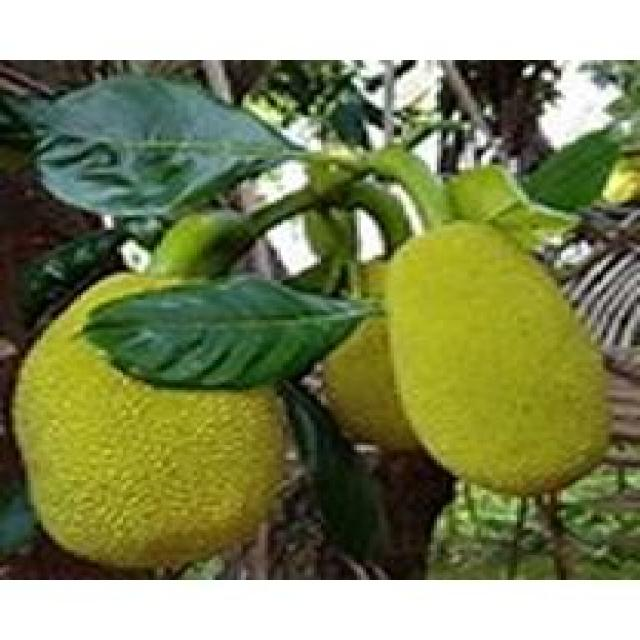Fruit: (0, 254, 332, 577), (354, 200, 640, 518)
